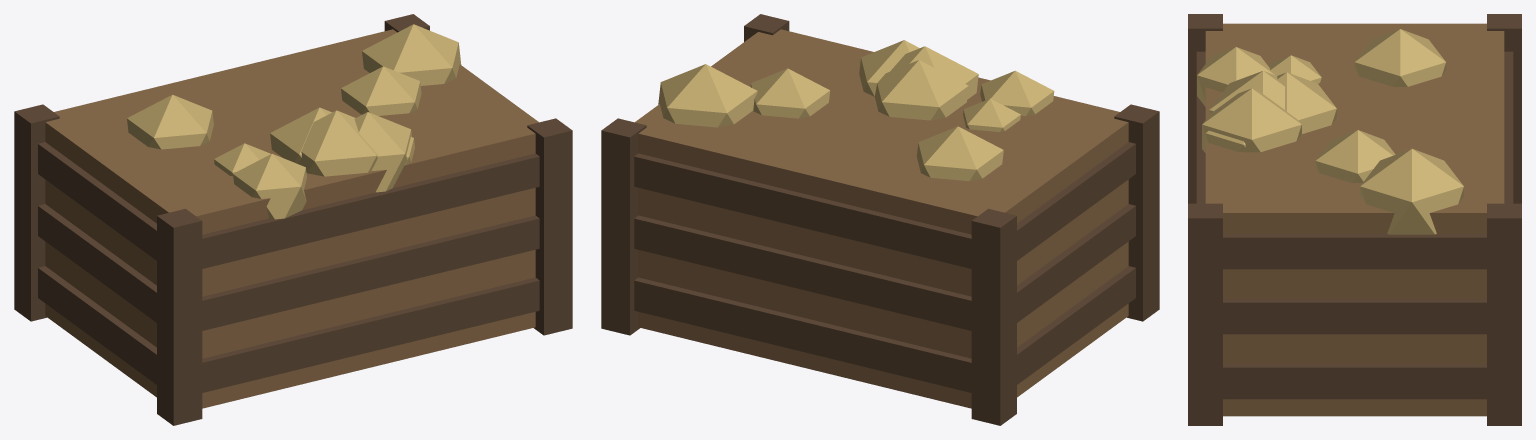
File: decorativos-cajon-c.glb
3 renders of one model, left to right at view 1: azimuth 30°, elevation 25°; view 2: azimuth 150°, elevation 25°; view 3: azimuth 270°, elevation 25°, orthographic. The views are drawn at different scales.
Parts seen in each view (by area): view 1: cajon_c_MaderaOscura, cajon_c_Madera, cajon_c_Paja; view 2: cajon_c_Madera, cajon_c_MaderaOscura, cajon_c_Paja; view 3: cajon_c_Madera, cajon_c_MaderaOscura, cajon_c_Paja.
Boxes of the visible parts, left/top/right/bottom form: cajon_c_MaderaOscura: left=14, top=14, right=572, bottom=425; cajon_c_Madera: left=45, top=29, right=538, bottom=408; cajon_c_Paja: left=127, top=24, right=461, bottom=219; cajon_c_Madera: left=635, top=29, right=1128, bottom=408; cajon_c_MaderaOscura: left=601, top=14, right=1159, bottom=425; cajon_c_Paja: left=658, top=40, right=1054, bottom=181; cajon_c_Madera: left=1205, top=23, right=1504, bottom=416; cajon_c_MaderaOscura: left=1188, top=14, right=1521, bottom=425; cajon_c_Paja: left=1197, top=29, right=1463, bottom=234.
Bounding box in the file's own units: 0.97 × 0.5596 × 0.67.
